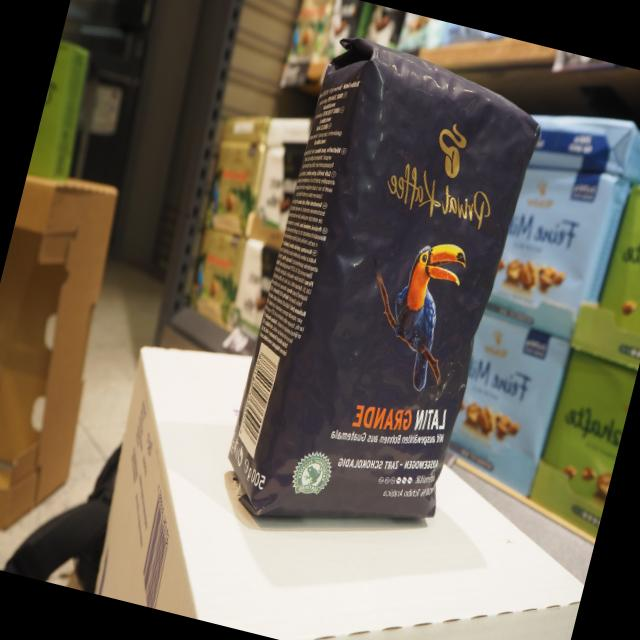LG Bohne: (205, 20, 554, 521)
